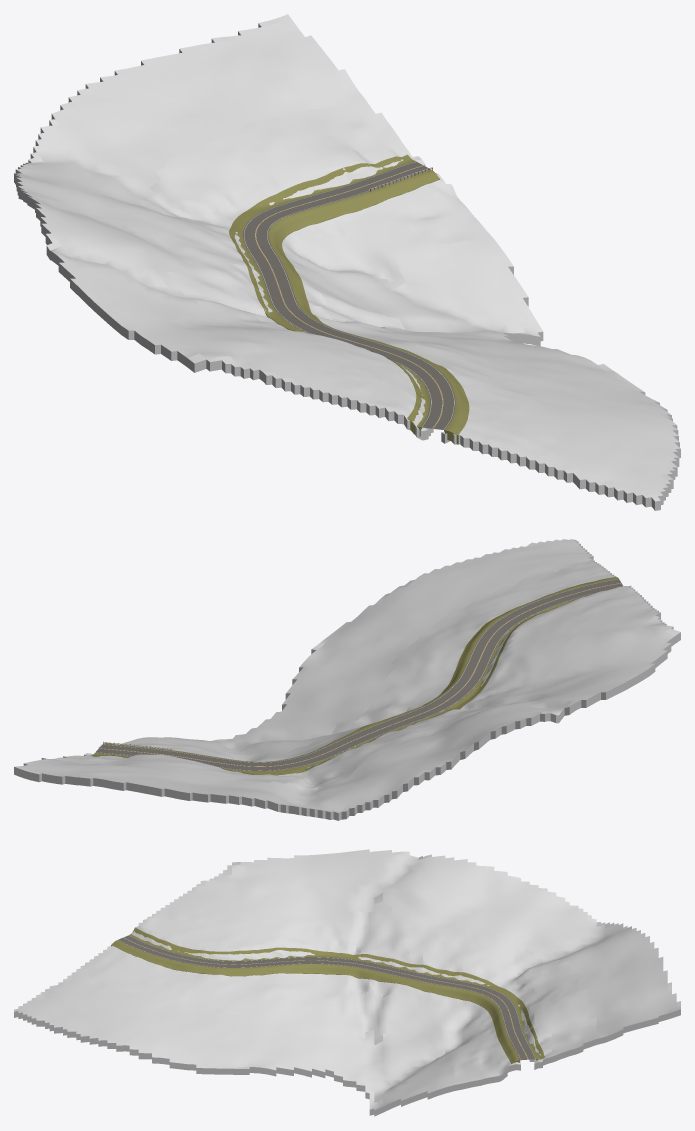
The model's file is conz_147.glb.
3 renders of one model, top to bottom at view 1: azimuth 30°, elevation 25°; view 2: azimuth 150°, elevation 25°; view 3: azimuth 270°, elevation 25°, orthographic. The views are drawn at different scales.
Parts seen in each view (by area): view 1: terrain147, road147, verge147L, verge147R, paint_white147; view 2: terrain147, road147, verge147R, verge147L, paint_white147, paint_yellow147; view 3: terrain147, verge147L, road147, verge147R.
Part boxes in pixels (left/top/right/bottom): terrain147: left=14, top=14, right=680, bottom=510; road147: left=243, top=161, right=455, bottom=430; verge147L: left=268, top=170, right=469, bottom=444; verge147R: left=229, top=154, right=429, bottom=436; paint_white147: left=244, top=161, right=454, bottom=429; terrain147: left=14, top=539, right=680, bottom=820; road147: left=95, top=579, right=622, bottom=771; verge147R: left=91, top=589, right=608, bottom=775; verge147L: left=103, top=577, right=618, bottom=762; paint_white147: left=97, top=579, right=618, bottom=770; paint_yellow147: left=100, top=583, right=620, bottom=766; terrain147: left=14, top=849, right=680, bottom=1116; verge147L: left=111, top=940, right=519, bottom=1063; road147: left=118, top=935, right=535, bottom=1060; verge147R: left=129, top=927, right=544, bottom=1060.
Bounding box in the file's own units: 164 × 60.24 × 300.
